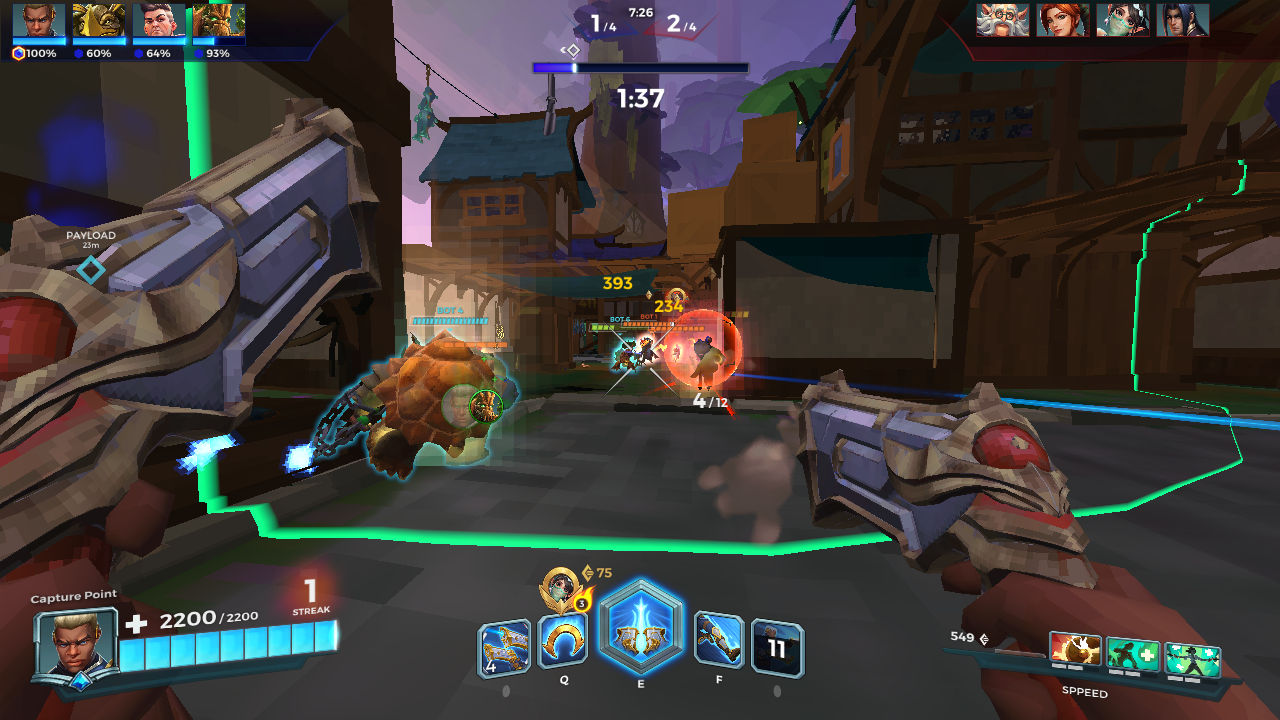model: (686, 329, 725, 403), (638, 336, 662, 363)
